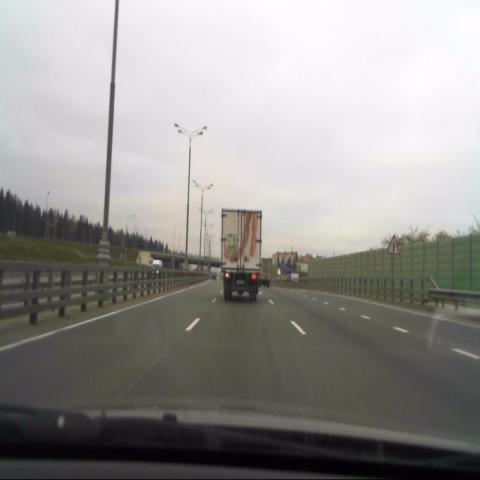2_3_2: (387, 235, 400, 256)
